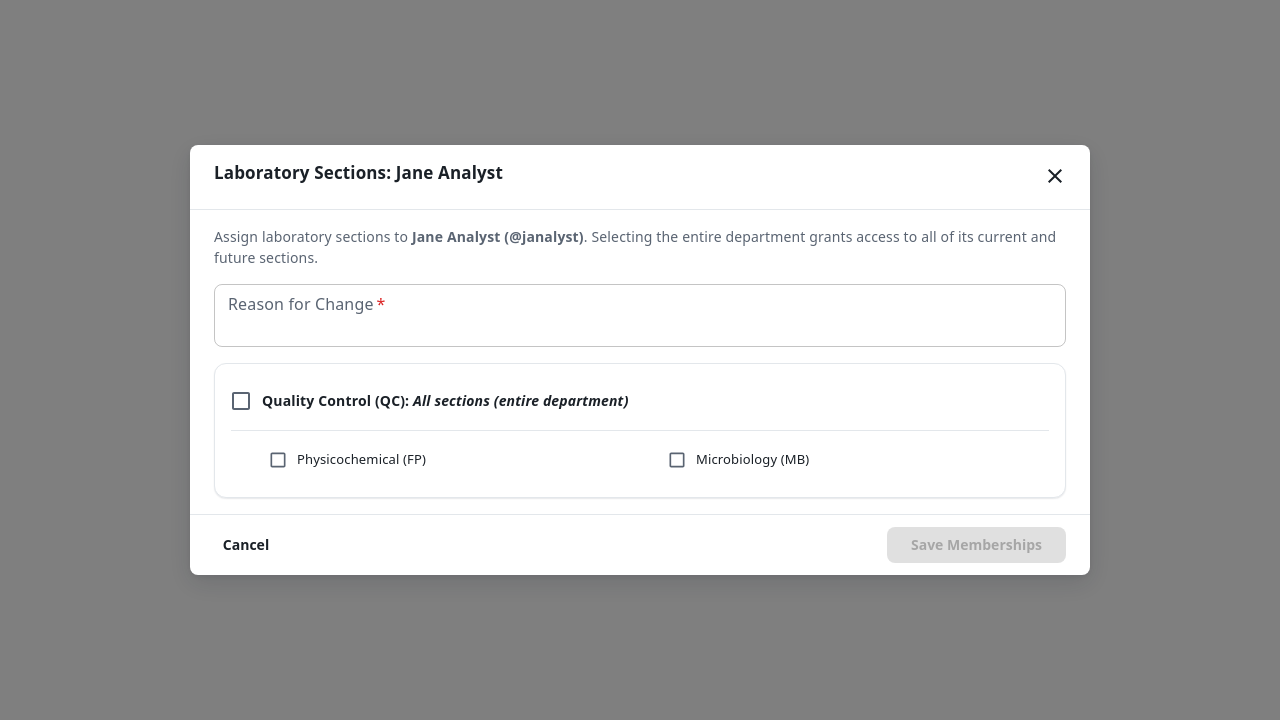
it: UserSectionsDialog - Lane F5 S3 physchemArea › dynamically shows area select when FP is checked and hides it when unchecked
Expected: the text "Physicochemical (FP)" is shown, [297, 450, 426, 470]
# Check MB section: area select should still NOT appear
Click the checkbox labelled "Microbiology (MB)": coordinates (738, 460) [667, 450, 809, 470]
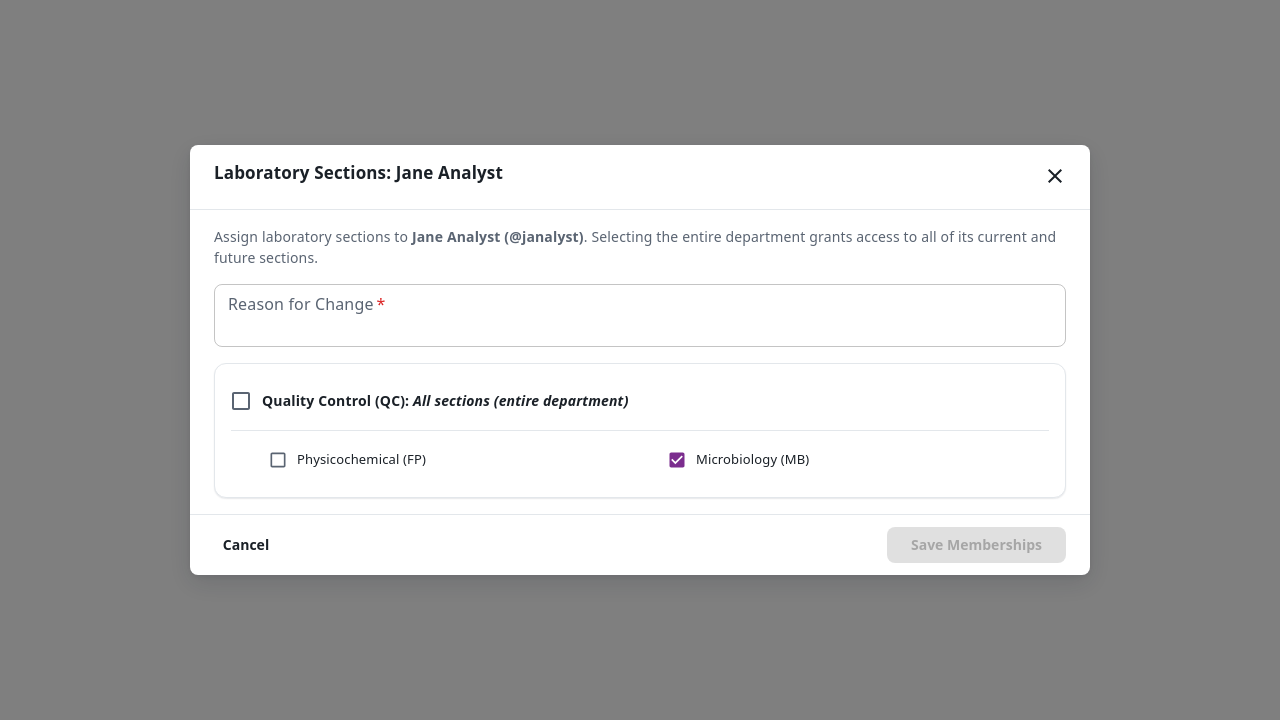
# Check FP section: area select appears
Click the checkbox labelled "Physicochemical (FP)": coordinates (347, 460) [268, 450, 426, 470]
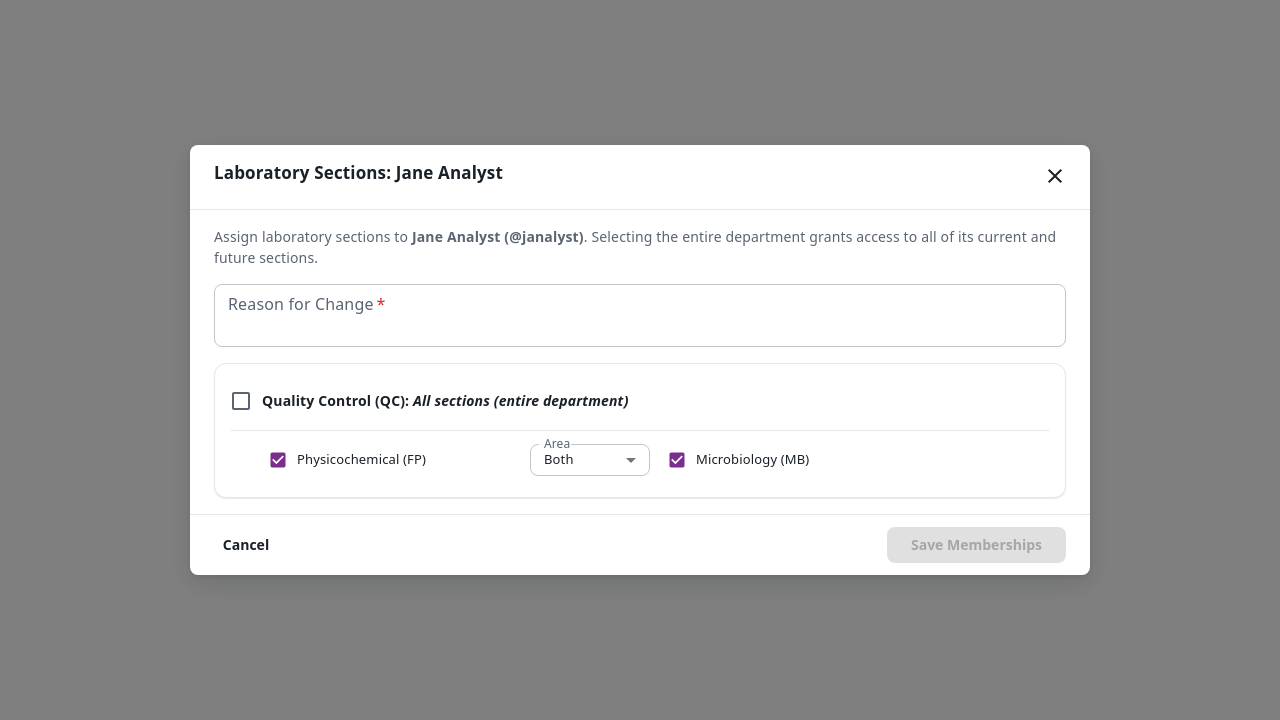
Result: the number of elements with test id "physchem-area-select" is 1 at [530, 444, 650, 476]
# Uncheck FP section: area select disappears
Click the checkbox labelled "Physicochemical (FP)": coordinates (347, 460) [268, 450, 426, 470]
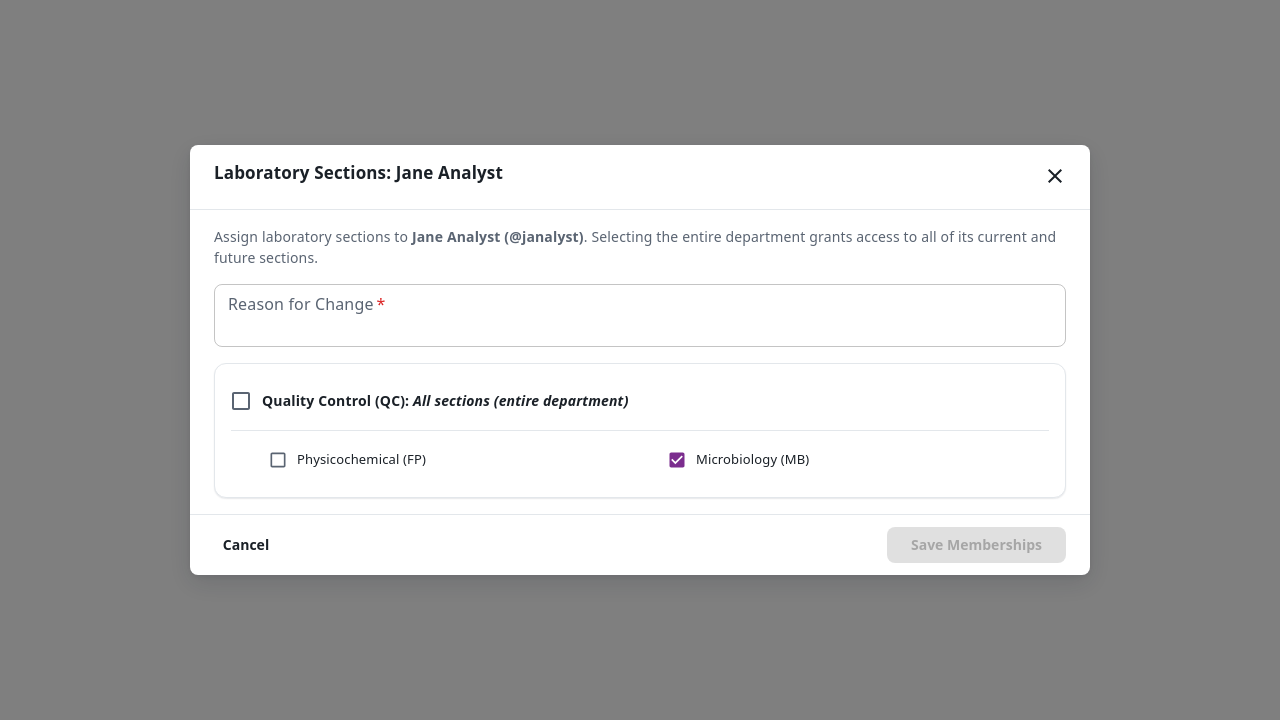
Result: the element with test id "physchem-area-select" is gone
